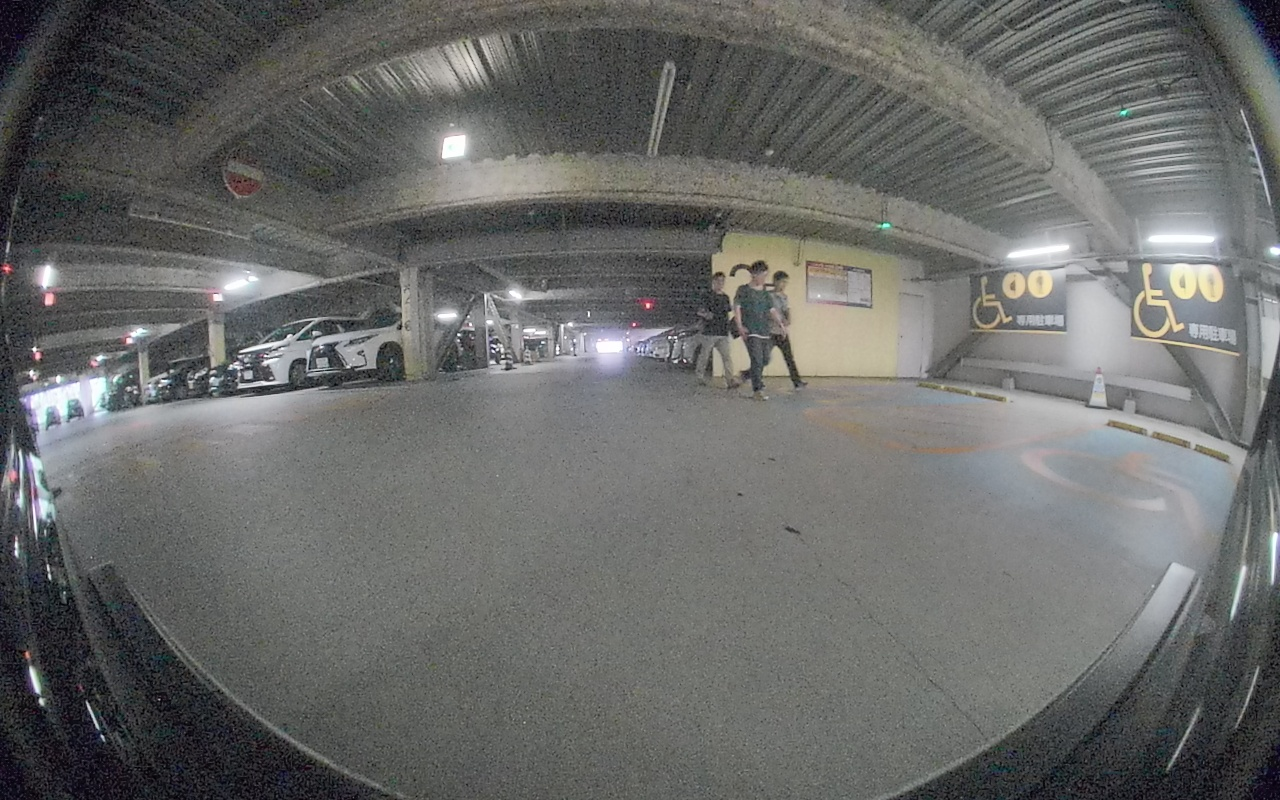car: (306, 308, 464, 388), (236, 315, 374, 395), (679, 313, 801, 375), (207, 333, 309, 398), (664, 317, 781, 368), (145, 349, 229, 407), (158, 347, 242, 405), (183, 342, 267, 400), (648, 320, 758, 364), (427, 324, 503, 376), (101, 359, 170, 413), (126, 355, 195, 409), (641, 325, 733, 361), (633, 332, 688, 358), (523, 334, 561, 360), (17, 407, 39, 436), (65, 397, 86, 423), (44, 405, 64, 431)
parking block: (1106, 418, 1149, 438), (1194, 443, 1230, 464), (1151, 431, 1191, 449), (974, 391, 1008, 404), (943, 384, 974, 398), (918, 381, 943, 393)
person: (728, 259, 788, 405), (740, 269, 809, 393), (691, 269, 742, 389)
safety cone: (15, 396, 63, 514), (1085, 364, 1112, 412), (500, 343, 519, 372), (520, 344, 535, 367), (534, 347, 544, 362)
traffic sign: (222, 144, 267, 198)
